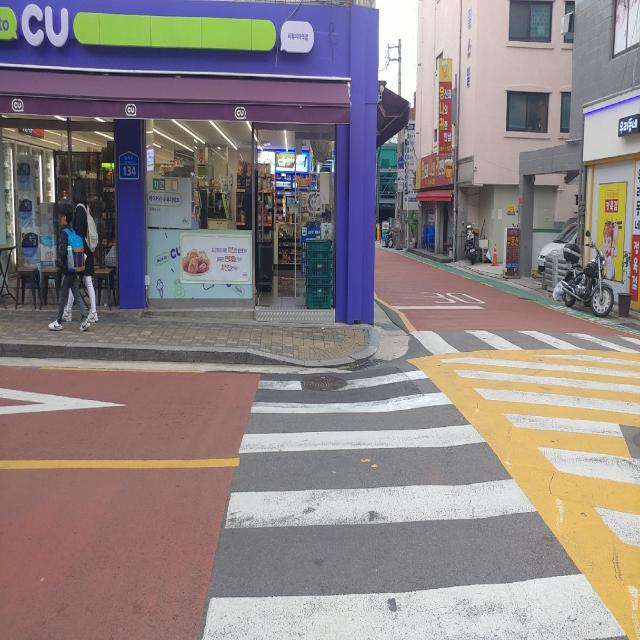횡단보도: (199, 368, 630, 640)
